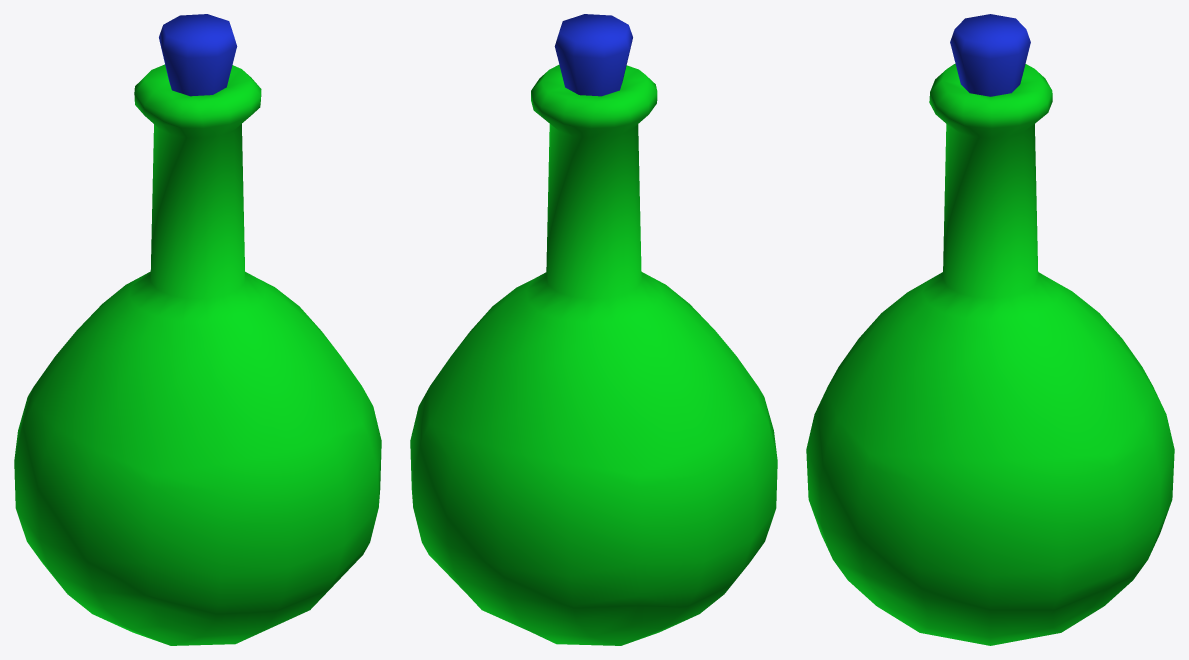
Rendered from Potion.fbx.
3 views of the same model, side by side, from view 1: azimuth 30°, elevation 25°; view 2: azimuth 150°, elevation 25°; view 3: azimuth 270°, elevation 25° (orthographic).
Visible parts, largest first — view 1: Cube.003; view 2: Cube.003; view 3: Cube.003.
Part boxes in pixels (x1,y1,x2,y2): Cube.003: (14,14,381,645); Cube.003: (410,14,777,645); Cube.003: (806,14,1174,645).
Size of the model in its own units: 21.55 by 38.64 by 21.55.
